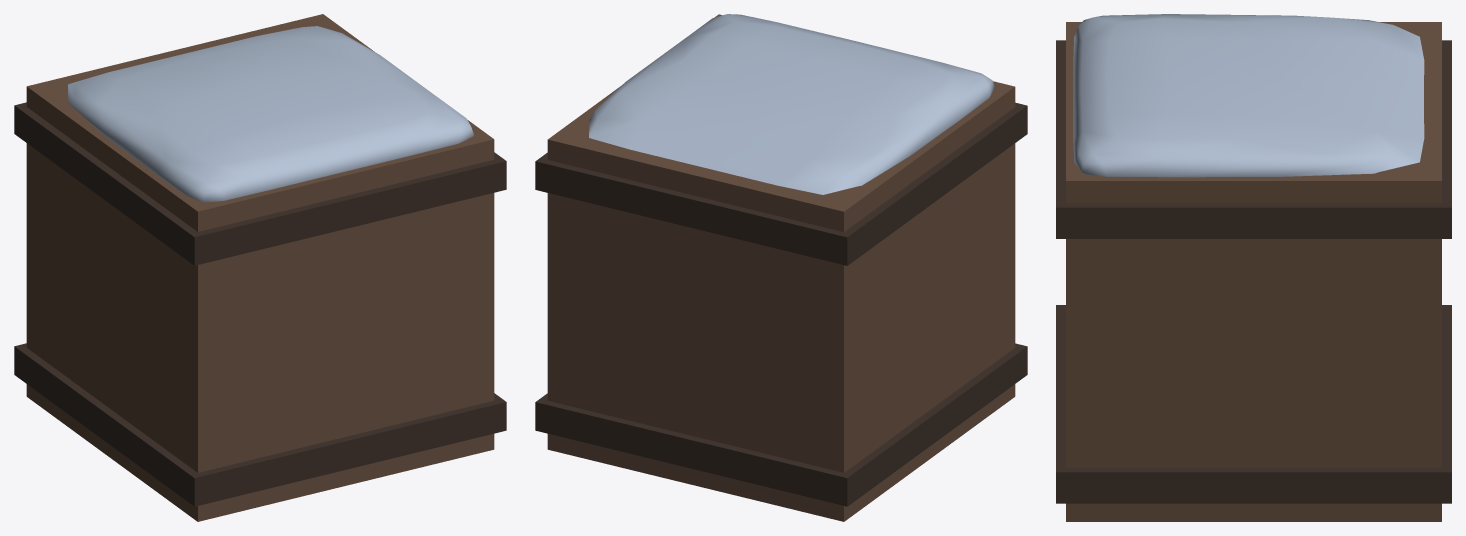
The model's file is crate.glb.
3 views of the same model, side by side, from view 1: azimuth 30°, elevation 25°; view 2: azimuth 150°, elevation 25°; view 3: azimuth 270°, elevation 25° (orthographic). The views are drawn at different scales.
Visible parts, largest first — view 1: Prop; view 2: Prop; view 3: Prop.
Boxes of the visible parts, bbox=[...] form: Prop: bbox=[14, 14, 506, 521]; Prop: bbox=[535, 14, 1027, 521]; Prop: bbox=[1056, 14, 1451, 521].
Bounding box in the file's own units: 0.8 × 0.8188 × 0.8.
